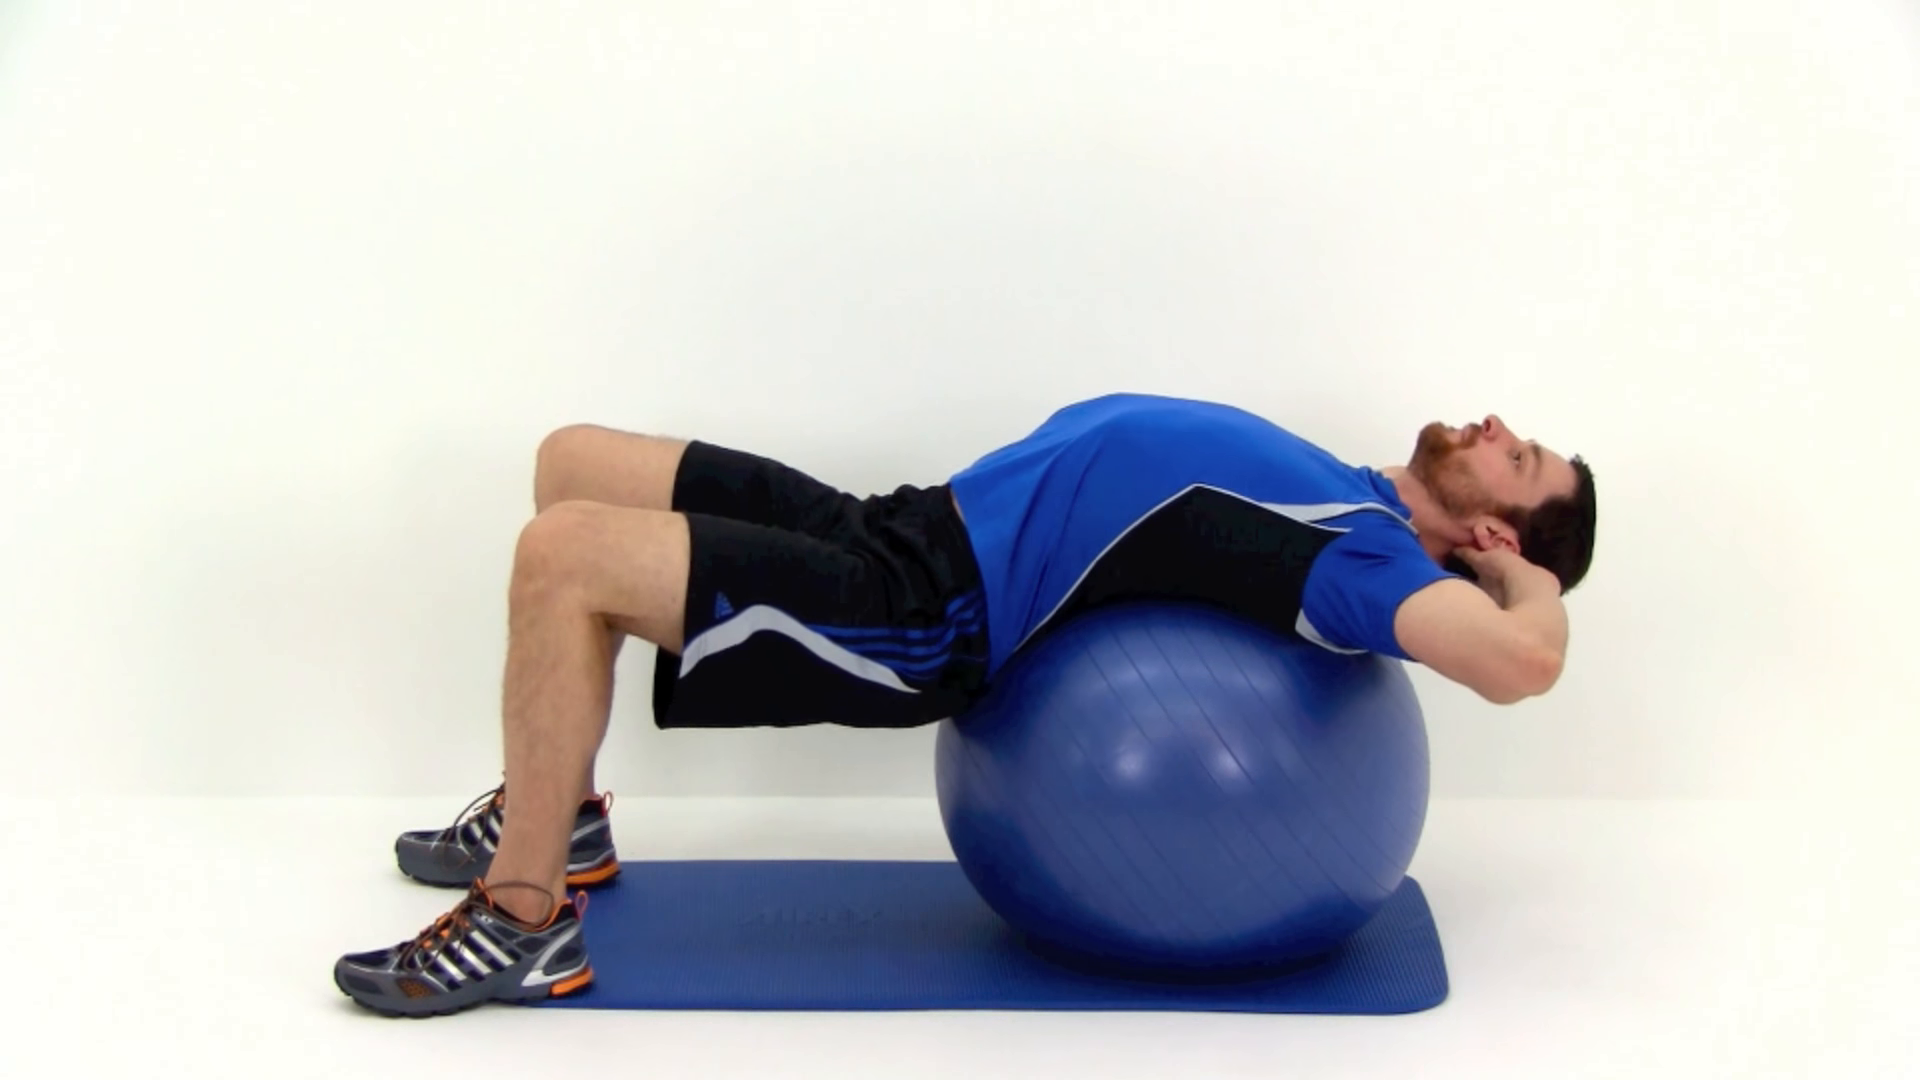yogaball: (919, 584, 1451, 996)
